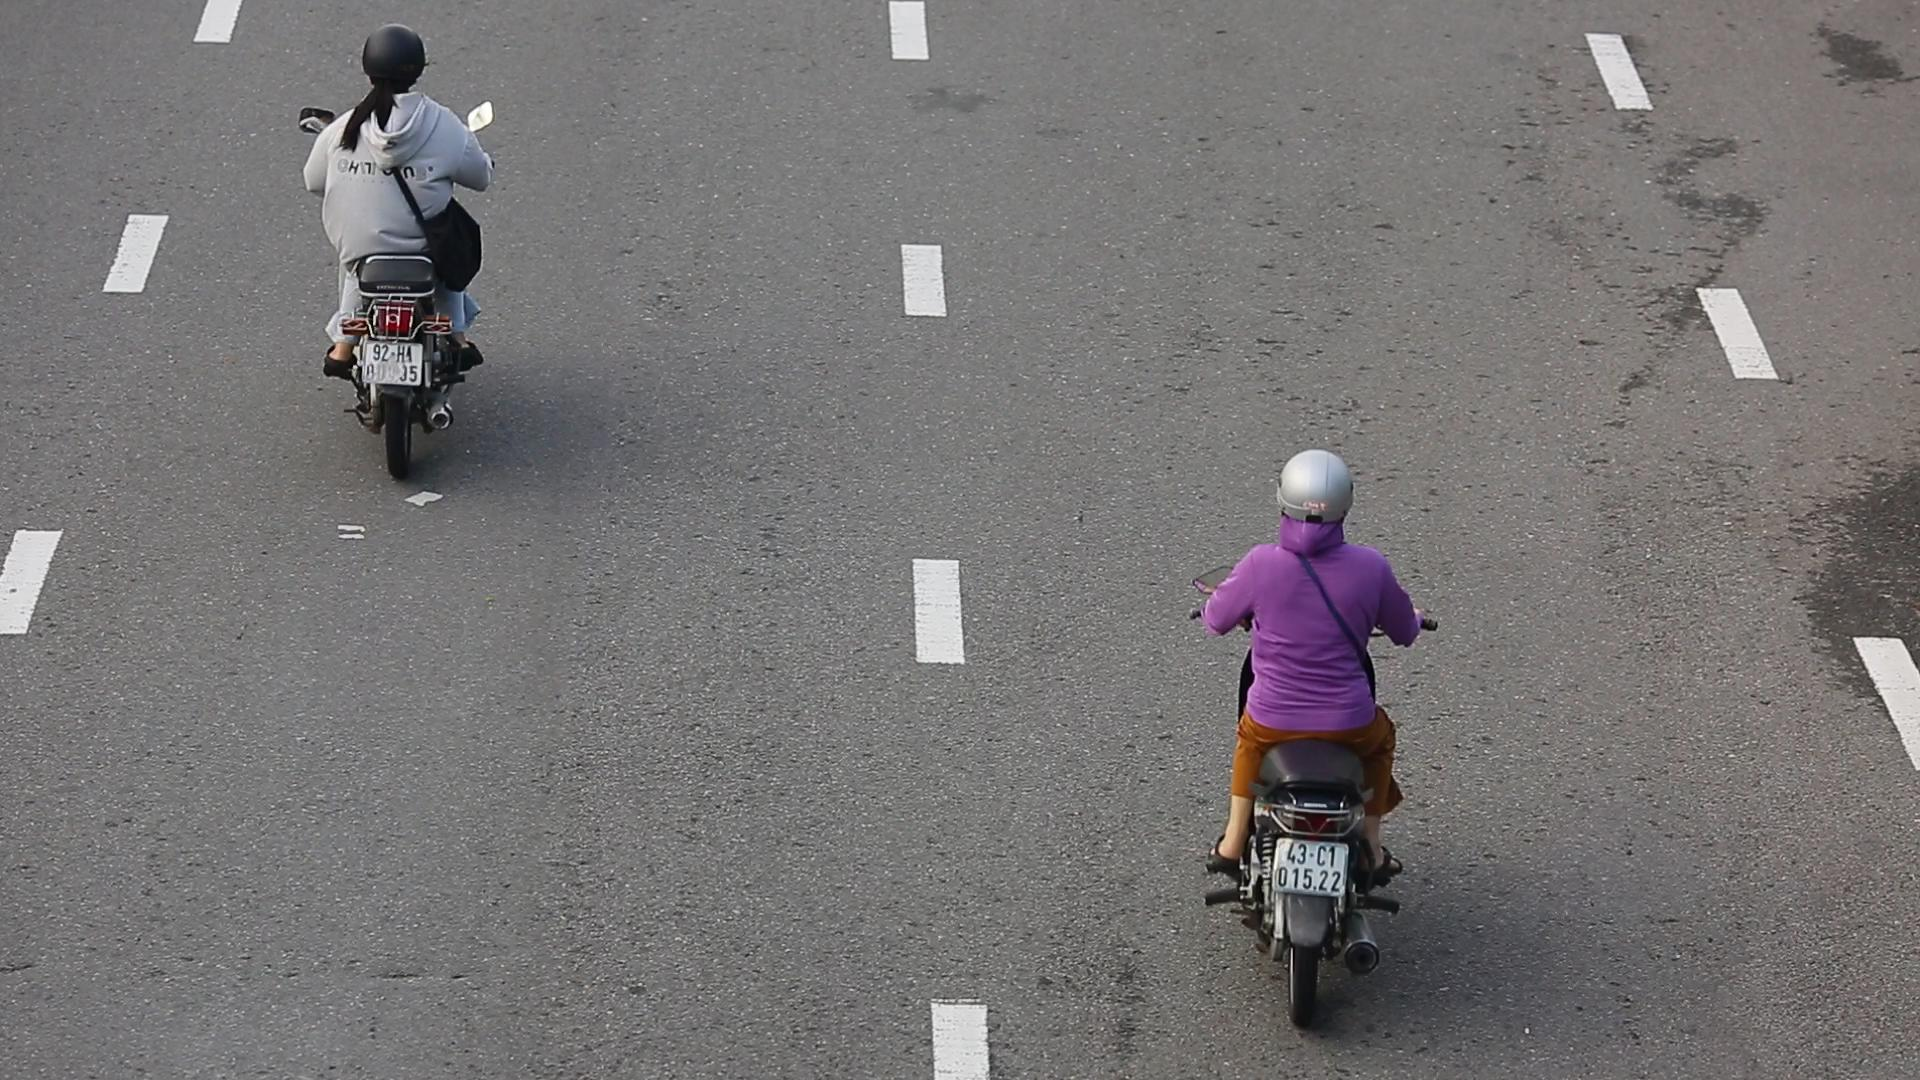motobike: (1196, 430, 1435, 1033), (285, 20, 504, 481)
